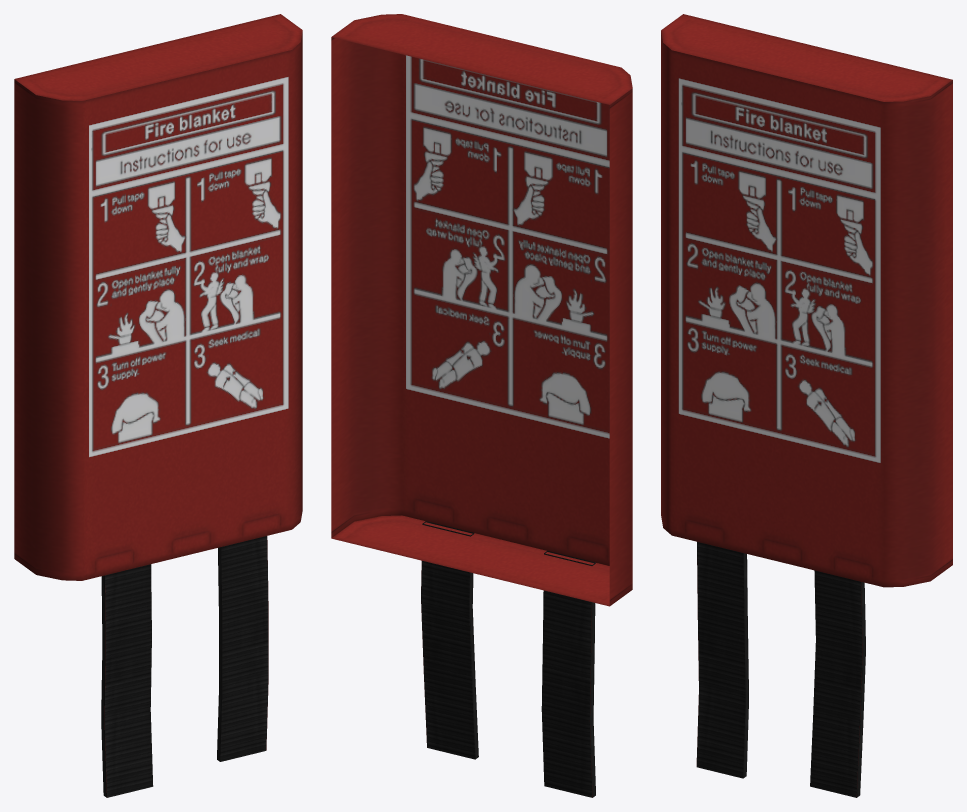
File: ms_fire_blanket.fbx
3 views of the same model, side by side, from view 1: azimuth 30°, elevation 25°; view 2: azimuth 150°, elevation 25°; view 3: azimuth 330°, elevation 25° (orthographic). The views are drawn at different scales.
Visible parts, largest first — view 1: ms_fire_blanket; view 2: ms_fire_blanket; view 3: ms_fire_blanket.
Boxes of the visible parts, <box> form: ms_fire_blanket: <box>14,14,302,797</box>; ms_fire_blanket: <box>331,14,632,797</box>; ms_fire_blanket: <box>661,14,952,797</box>.
Bounding box in the file's own units: 15.31 × 38.57 × 4.02.
